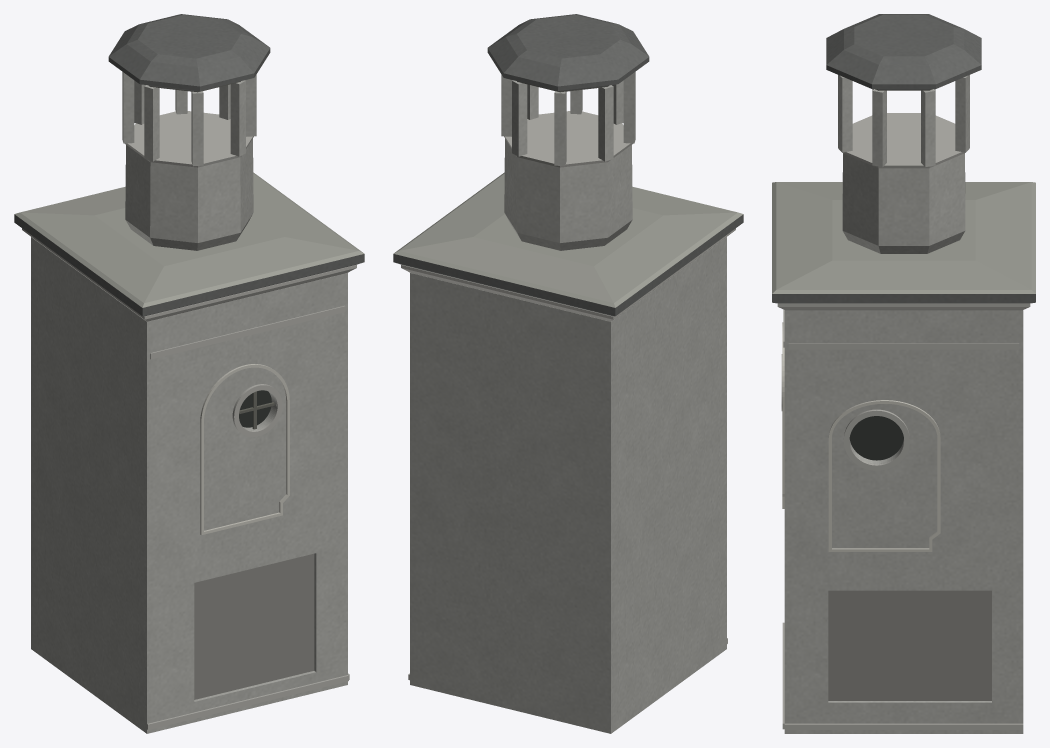
The model's file is yangpu-yangshupu-fire-brigade-historic-tower-crown-web.glb.
The picture shows the model from 3 angles, left to right: view 1: azimuth 30°, elevation 25°; view 2: azimuth 150°, elevation 25°; view 3: azimuth 270°, elevation 25°; orthographic projection. The views are drawn at different scales.
Visible parts, largest first — view 1: 杨树浦救火会旧望塔圆眼与敞亭塔冠; view 2: 杨树浦救火会旧望塔圆眼与敞亭塔冠; view 3: 杨树浦救火会旧望塔圆眼与敞亭塔冠.
Boxes of the visible parts, x1,y1,x2,y2 form: 杨树浦救火会旧望塔圆眼与敞亭塔冠: [14, 14, 364, 733]; 杨树浦救火会旧望塔圆眼与敞亭塔冠: [393, 14, 743, 733]; 杨树浦救火会旧望塔圆眼与敞亭塔冠: [772, 14, 1035, 733].
Bounding box in the file's own units: 1.11 × 3 × 1.11.
9 materials, 2 textured.
